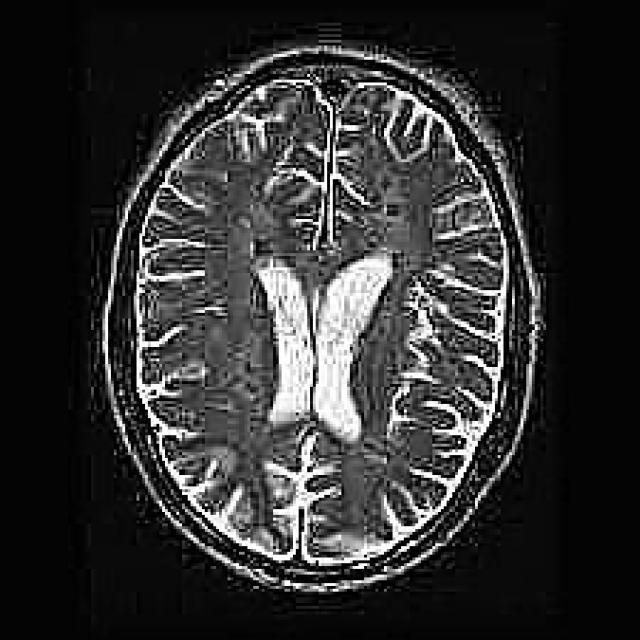notumor: (102, 46, 538, 589)
